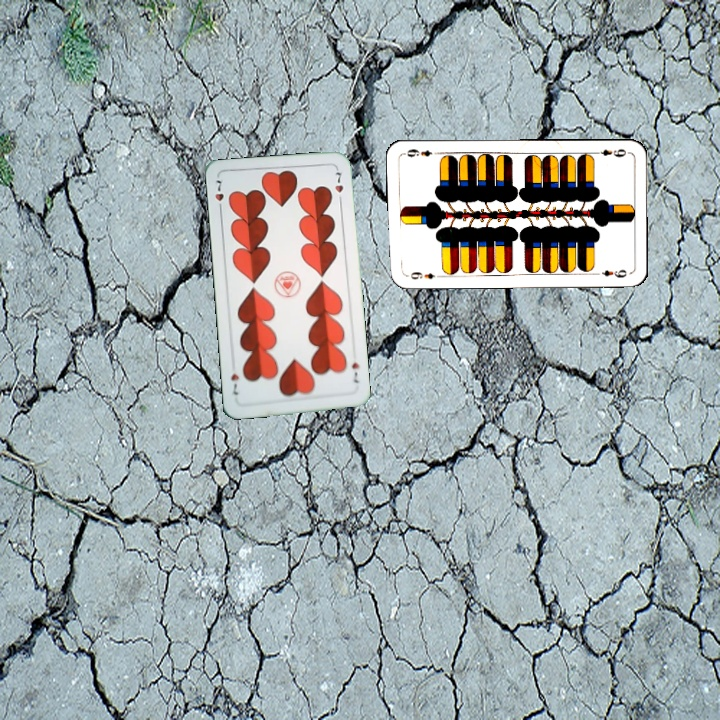E9: (590, 145, 630, 159), (402, 268, 442, 282)
H7: (211, 176, 226, 215), (348, 358, 362, 385)
